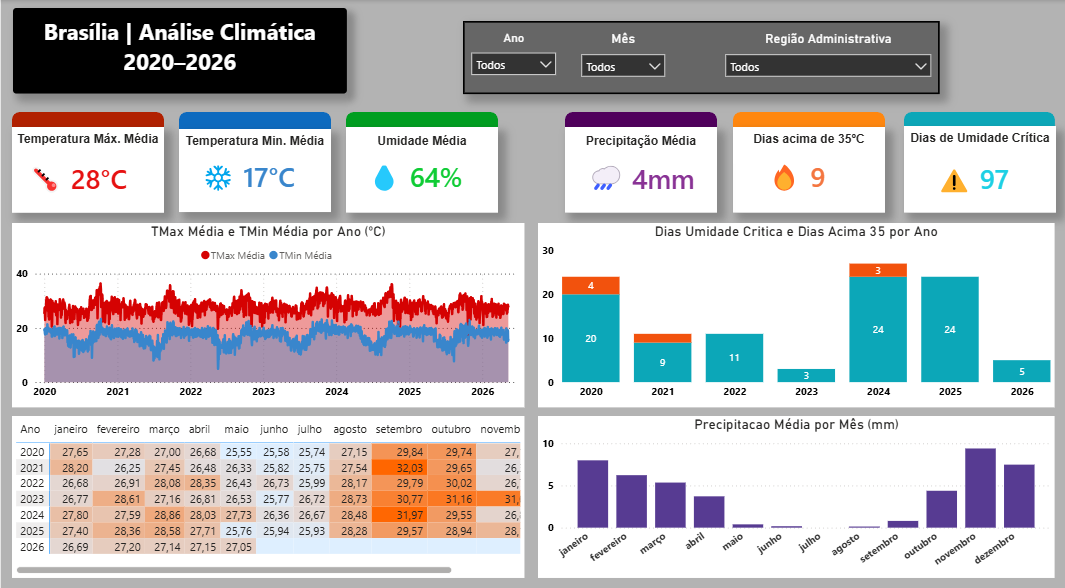

The dashboard page shown, as its layout file describes it:
{"tool":"powerbi","page":{"name":"Página 1","canvas":[1280,720],"ordinal":0},"visuals":[{"type":"textbox","box":[14.3,10,401.9,103],"z":0},{"type":"shape","box":[556,24.8,573.9,88.1],"z":1000},{"type":"shape","box":[13.8,134.9,183.1,35.8],"z":2000},{"type":"shape","box":[214.7,134.9,183.1,35.8],"z":3000},{"type":"shape","box":[415.7,134.9,183.1,35.8],"z":4000},{"type":"shape","box":[678.5,134.9,183.1,35.8],"z":5000},{"type":"shape","box":[880.9,134.9,183.1,35.8],"z":6000},{"type":"shape","box":[1087.3,134.9,181.7,35.8],"z":7000},{"type":"shape","box":[1087.3,152.8,183.1,103.2],"z":8000},{"type":"shape","box":[880.9,152.8,183.1,103.2],"z":9000},{"type":"shape","box":[13.8,152.8,183.1,103.2],"z":10000},{"type":"shape","box":[214.7,155.5,183.1,100.5],"z":11000},{"type":"shape","box":[415.7,152.8,183.1,103.2],"z":12000},{"type":"shape","box":[678.5,152.8,183.1,103.2],"z":13000},{"type":"cardVisual","fields":{"Data":["Tabela.Teste Label"]},"box":[0,173.4,183.1,78.5],"z":14000},{"type":"cardVisual","fields":{"Data":["Tabela.TMin Label"]},"box":[196.8,170.7,200.9,78.5],"z":15000},{"type":"cardVisual","fields":{"Data":["Tabela.Umidade Label"]},"box":[397.8,170.7,200.9,78.5],"z":16000},{"type":"cardVisual","fields":{"Data":["Tabela.Precip Label"]},"box":[671.7,173.4,198.2,78.5],"z":17000},{"type":"cardVisual","fields":{"Data":["Tabela.Calor Label"]},"box":[856.1,170.7,202.3,78.5],"z":18000},{"type":"cardVisual","fields":{"Data":["Tabela.Seca Label"]},"box":[1072.2,173.4,196.8,78.5],"z":19000},{"type":"textbox","box":[13.8,152.8,183.1,44],"z":20000},{"type":"textbox","box":[214.7,155.5,183.1,44],"z":21000},{"type":"textbox","box":[415.7,155.5,183.1,44],"z":22000},{"type":"textbox","box":[678.5,155.5,183.1,44],"z":23000},{"type":"textbox","box":[1087.3,151.4,183.1,44],"z":24000},{"type":"textbox","box":[880.9,152.8,183.1,44],"z":25000},{"type":"lineChart","title":"TMax Média e TMin Média por Ano (ºC)","fields":{"Y":["Tabela.TMax Média","Tabela.TMin Média"],"Category":["Tabela.Data.Variation.Hierarquia de datas.Ano","Tabela.Data.Variation.Hierarquia de datas.Trimestre","Tabela.Data.Variation.Hierarquia de datas.Mês","Tabela.Data.Variation.Hierarquia de datas.Dia"]},"box":[13.8,268.4,616.6,234],"z":26000},{"type":"lineStackedColumnComboChart","title":"Precipitacao Média por Mês (mm)","fields":{"Category":["Tabela.Data.Variation.Hierarquia de datas.Mês"],"Y":["Tabela.Precipitacao Média"]},"box":[748.7,524.4,521.6,184.4],"z":27000},{"type":"pivotTable","fields":{"Rows":["Tabela.Data.Variation.Hierarquia de datas.Ano"],"Columns":["Tabela.Data.Variation.Hierarquia de datas.Mês"],"Values":["Tabela.TMax Média"]},"box":[13.8,524.4,714.3,184.4],"z":28000},{"type":"columnChart","fields":{"Category":["Tabela.Data.Variation.Hierarquia de datas.Ano"],"Y":["Tabela.Dias Umidade Critica","Tabela.Dias Acima 35"]},"box":[646.9,268.4,622.1,234],"z":29000},{"type":"slicer","title":"Ano","fields":{"Values":["Tabela.Data.Variation.Hierarquia de datas.Ano"]},"box":[556,37.2,122.5,63.3],"z":30000},{"type":"slicer","title":"Região Administrativa","fields":{"Values":["Tabela.Alerta Calor"]},"box":[861.6,37.2,268.4,63.3],"z":31000},{"type":"slicer","title":"Mês","fields":{"Values":["Tabela.Data.Variation.Hierarquia de datas.Mês"]},"box":[688.2,37.2,121.1,63.3],"z":32000}]}

Visuals, with their boxes in screenshot pixels (x1, y1, x2, y2), scaled from the page's 1280x720 canvas onto the 1065x588 screenshot:
textbox: rect(12, 8, 346, 92)
shape: rect(463, 20, 940, 92)
shape: rect(11, 110, 164, 139)
shape: rect(179, 110, 331, 139)
shape: rect(346, 110, 498, 139)
shape: rect(565, 110, 717, 139)
shape: rect(733, 110, 885, 139)
shape: rect(905, 110, 1056, 139)
shape: rect(905, 125, 1057, 209)
shape: rect(733, 125, 885, 209)
shape: rect(11, 125, 164, 209)
shape: rect(179, 127, 331, 209)
shape: rect(346, 125, 498, 209)
shape: rect(565, 125, 717, 209)
cardVisual - Tabela.Teste Label: rect(0, 142, 152, 206)
cardVisual - Tabela.TMin Label: rect(164, 139, 331, 204)
cardVisual - Tabela.Umidade Label: rect(331, 139, 498, 204)
cardVisual - Tabela.Precip Label: rect(559, 142, 724, 206)
cardVisual - Tabela.Calor Label: rect(712, 139, 881, 204)
cardVisual - Tabela.Seca Label: rect(892, 142, 1056, 206)
textbox: rect(11, 125, 164, 161)
textbox: rect(179, 127, 331, 163)
textbox: rect(346, 127, 498, 163)
textbox: rect(565, 127, 717, 163)
textbox: rect(905, 124, 1057, 160)
textbox: rect(733, 125, 885, 161)
"TMax Média e TMin Média por Ano (ºC)" lineChart: rect(11, 219, 525, 410)
"Precipitacao Média por Mês (mm)" lineStackedColumnComboChart: rect(623, 428, 1057, 579)
pivotTable - Tabela.Data.Variation.Hierarquia de datas.Ano x Tabela.Data.Variation.Hierarquia de datas.Mês: rect(11, 428, 606, 579)
columnChart - Tabela.Data.Variation.Hierarquia de datas.Ano x Tabela.Dias Umidade Critica: rect(538, 219, 1056, 410)
"Ano" slicer: rect(463, 30, 565, 82)
"Região Administrativa" slicer: rect(717, 30, 940, 82)
"Mês" slicer: rect(573, 30, 673, 82)
